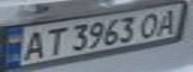3: (66, 20, 90, 52), (118, 14, 142, 43)
6: (103, 16, 127, 46)
9: (84, 19, 109, 48)
A: (18, 28, 51, 62), (151, 6, 181, 36)
O: (136, 9, 166, 38)
T: (39, 25, 69, 56)
